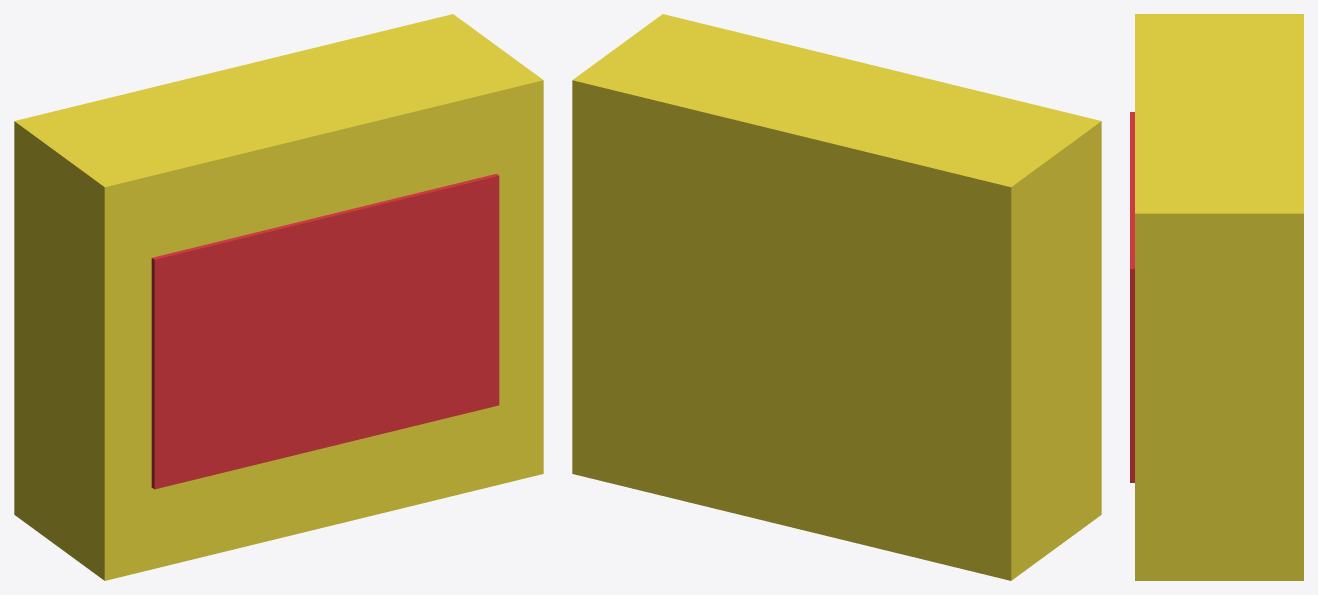
File: Prop_Snack_Box.glb
3 views of the same model, side by side, from view 1: azimuth 30°, elevation 25°; view 2: azimuth 150°, elevation 25°; view 3: azimuth 270°, elevation 25° (orthographic). The views are drawn at different scales.
Visible parts, largest first — view 1: Prop_Snack_Box_Export; view 2: Prop_Snack_Box_Export; view 3: Prop_Snack_Box_Export.
Part boxes in pixels (x1,y1,x2,y2): Prop_Snack_Box_Export: (14, 14, 543, 580); Prop_Snack_Box_Export: (572, 14, 1101, 580); Prop_Snack_Box_Export: (1130, 14, 1303, 580).
Bounding box in the file's own units: 0.14 × 0.12 × 0.0515.
